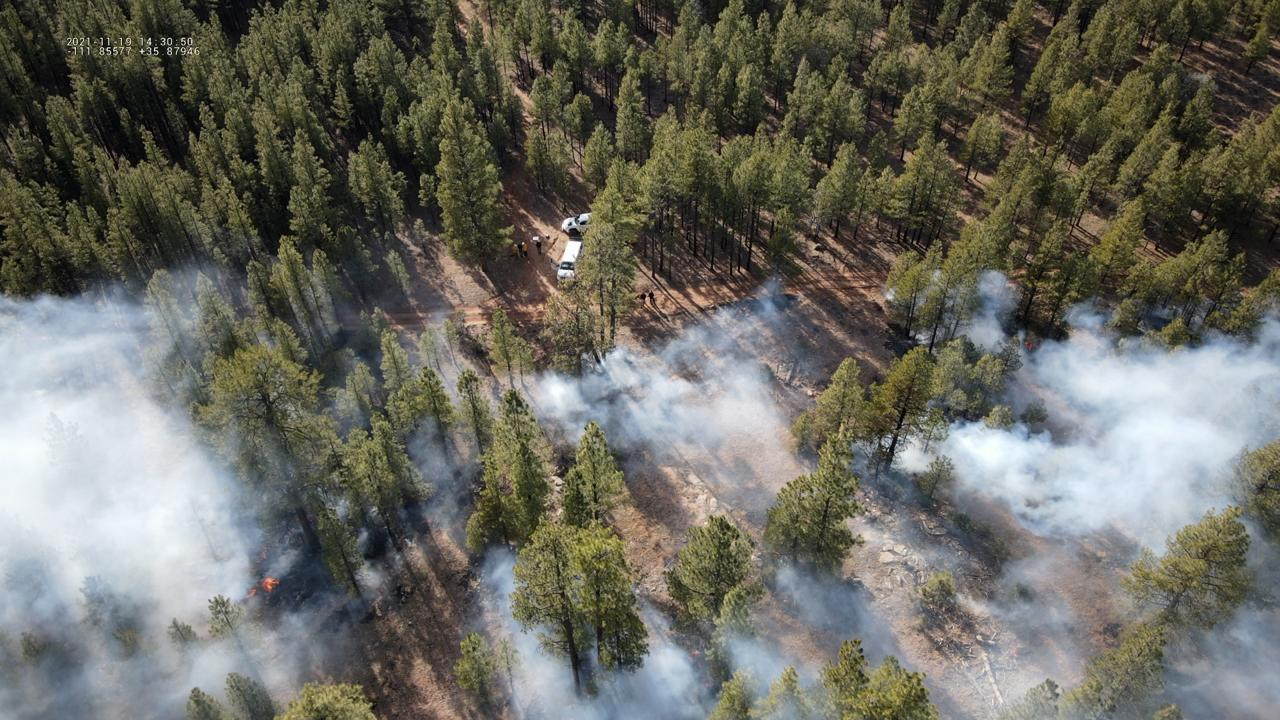fire: (261, 577, 281, 593), (243, 587, 257, 600), (1022, 340, 1034, 352), (691, 648, 702, 655)
smoke: (0, 267, 1280, 720)
